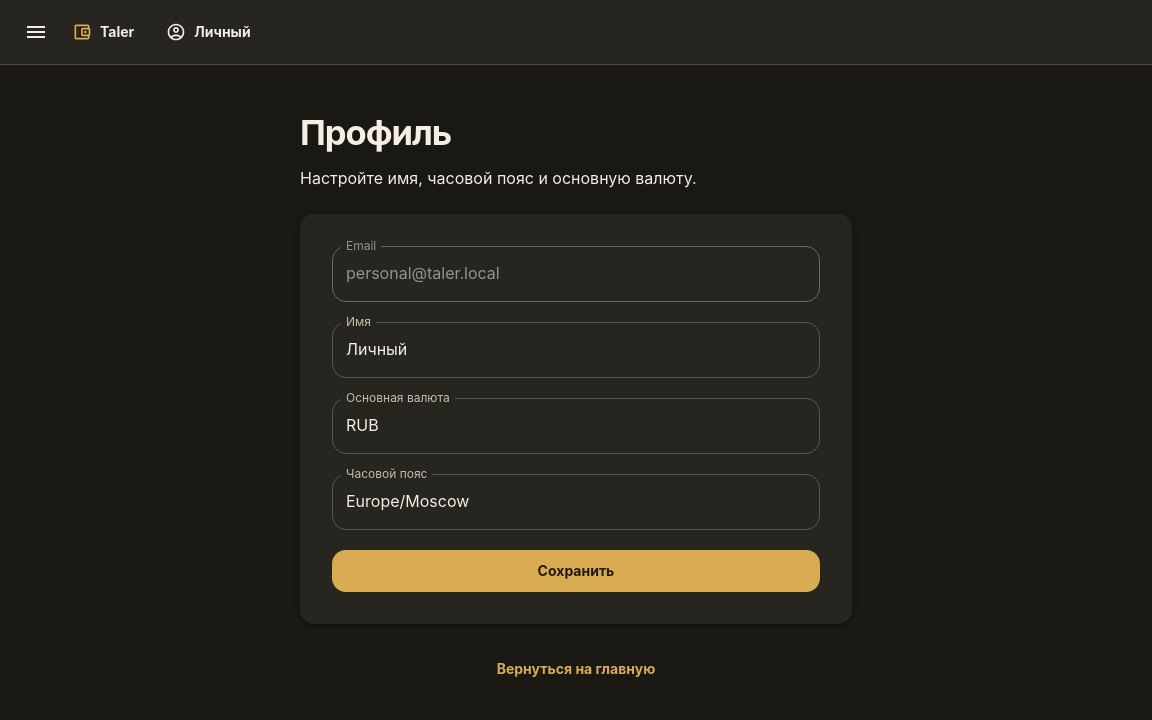
Test: App › renders the protected app shell after authentication
The image size is (1152, 720).
Expected: the heading "Профиль" is shown, [300,112,451,153]
Expected: the header is shown, [0,0,1151,65]
Step 1. Click the button named "Открыть навигацию" → (36, 32), box [16,12,56,52]
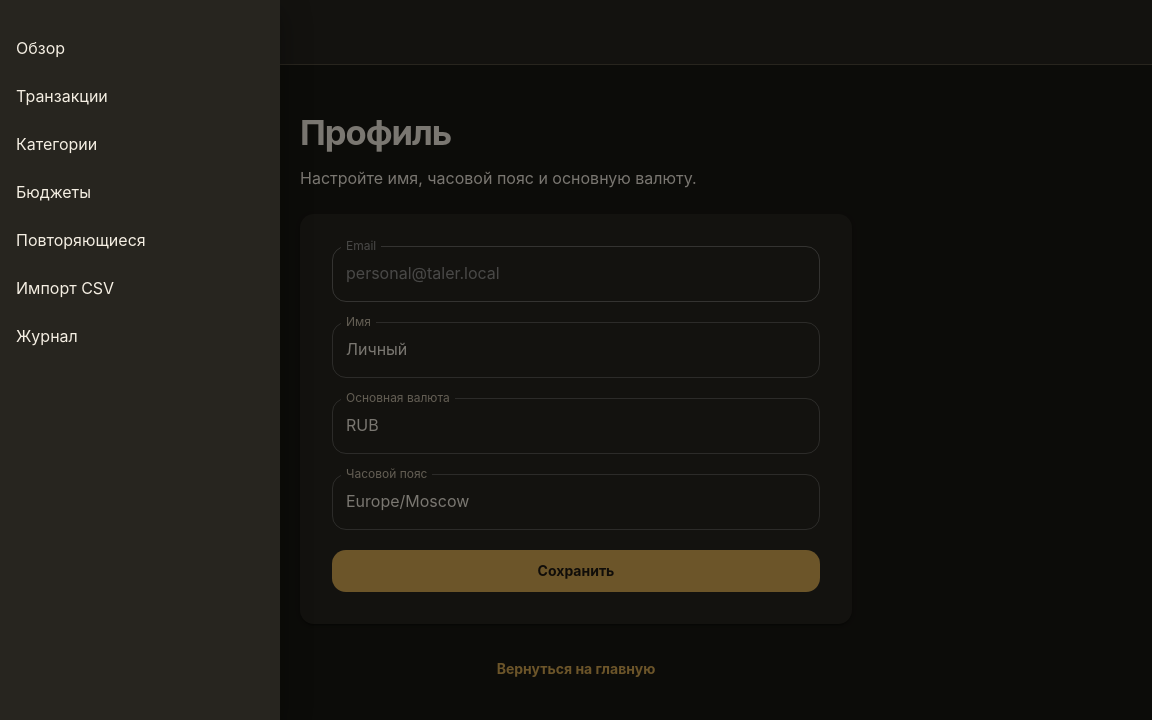
Expected: the navigation bar named "Основная навигация" is shown, [16,38,146,346]
